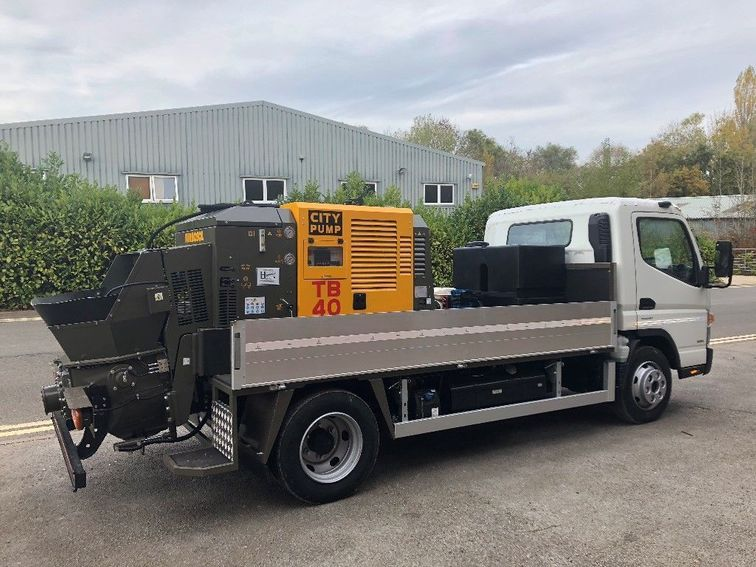Semi: (29, 195, 733, 506)
